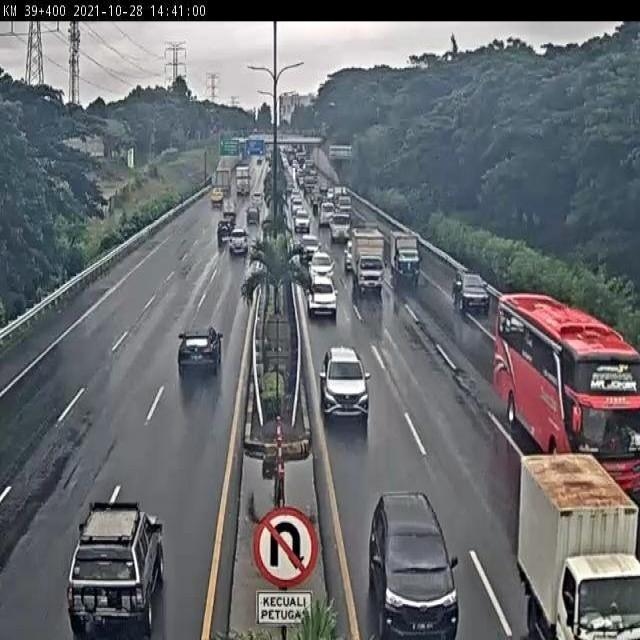bus-l-: (494, 296, 640, 499)
car: (368, 490, 461, 640), (68, 501, 165, 640), (320, 344, 369, 417), (177, 325, 222, 379), (450, 267, 491, 312), (306, 276, 339, 319)
truck-m-: (351, 225, 384, 291)
truck-s-: (389, 228, 420, 281)
